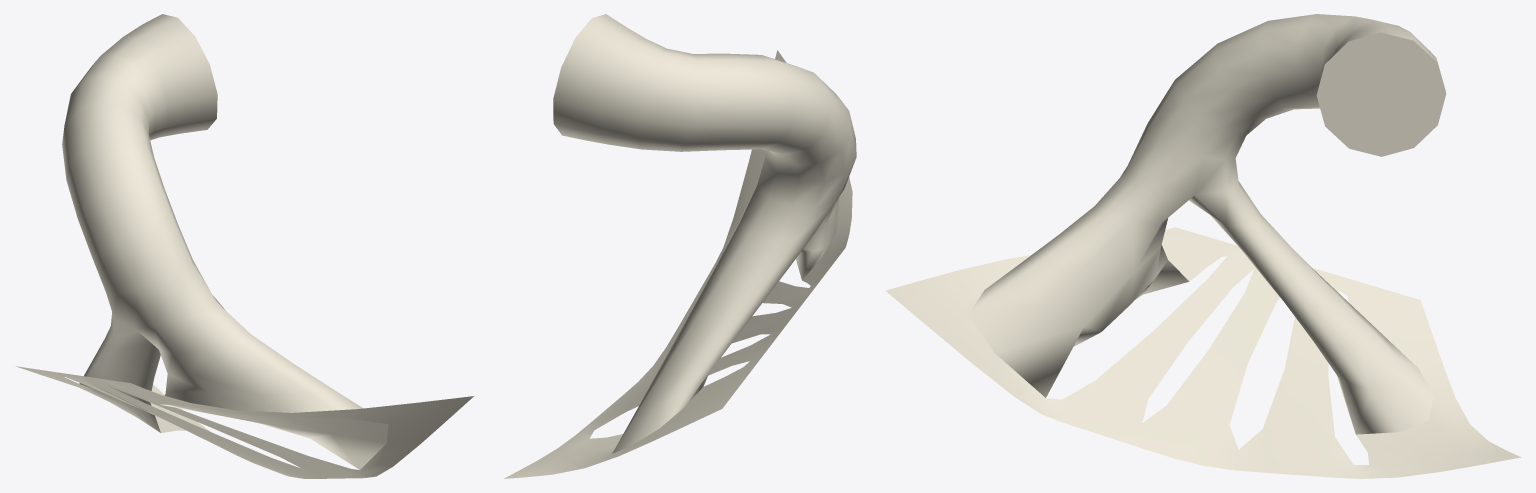
The picture shows the model from 3 angles, left to right: view 1: azimuth 30°, elevation 25°; view 2: azimuth 150°, elevation 25°; view 3: azimuth 270°, elevation 25°; orthographic projection. The views are drawn at different scales.
Visible parts, largest first — view 1: ZA_e94cbd97aa7bdbd8; view 2: ZA_e94cbd97aa7bdbd8; view 3: ZA_e94cbd97aa7bdbd8.
Part boxes in pixels (left/top/right/bottom): ZA_e94cbd97aa7bdbd8: left=16, top=14, right=473, bottom=478; ZA_e94cbd97aa7bdbd8: left=504, top=14, right=856, bottom=478; ZA_e94cbd97aa7bdbd8: left=885, top=14, right=1521, bottom=478.
Size of the model in its own units: 0.0137 by 0.0245 by 0.0326.
